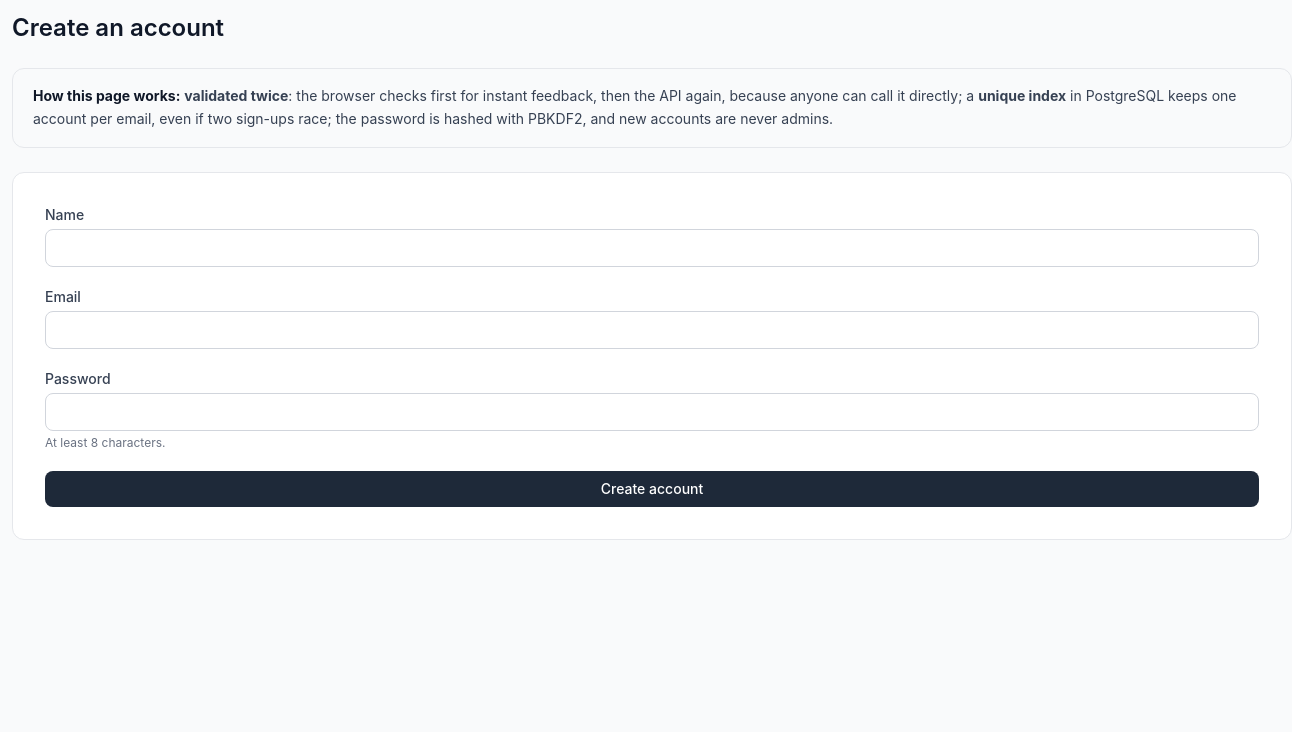
Test: RegisterPage › shows errors without a field in an alert
The width and height of the screenshot is (1292, 732).
Type "New User" into the field labelled "Name" at x=652, y=248, box x1=45 y1=228 x2=1259 y2=266
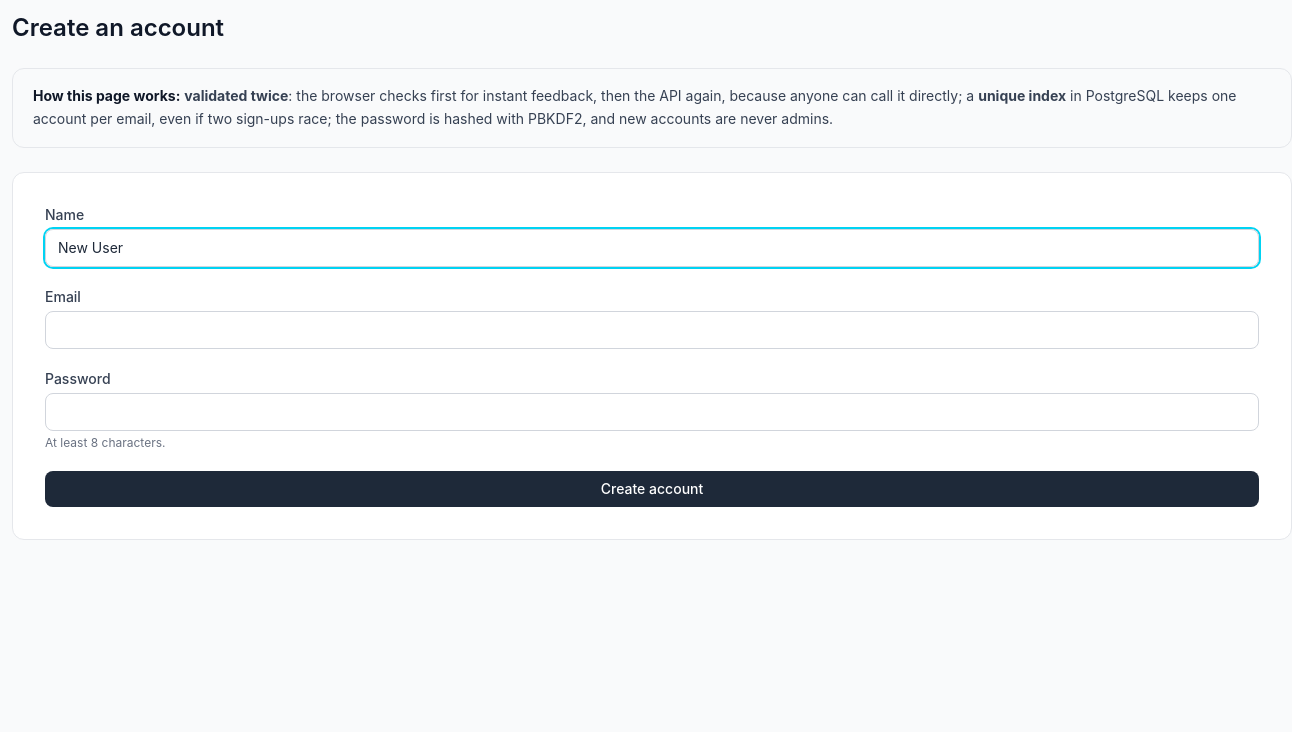
Type "new.user@example.com" into the field labelled "Email" at x=652, y=330, box x1=45 y1=310 x2=1259 y2=348
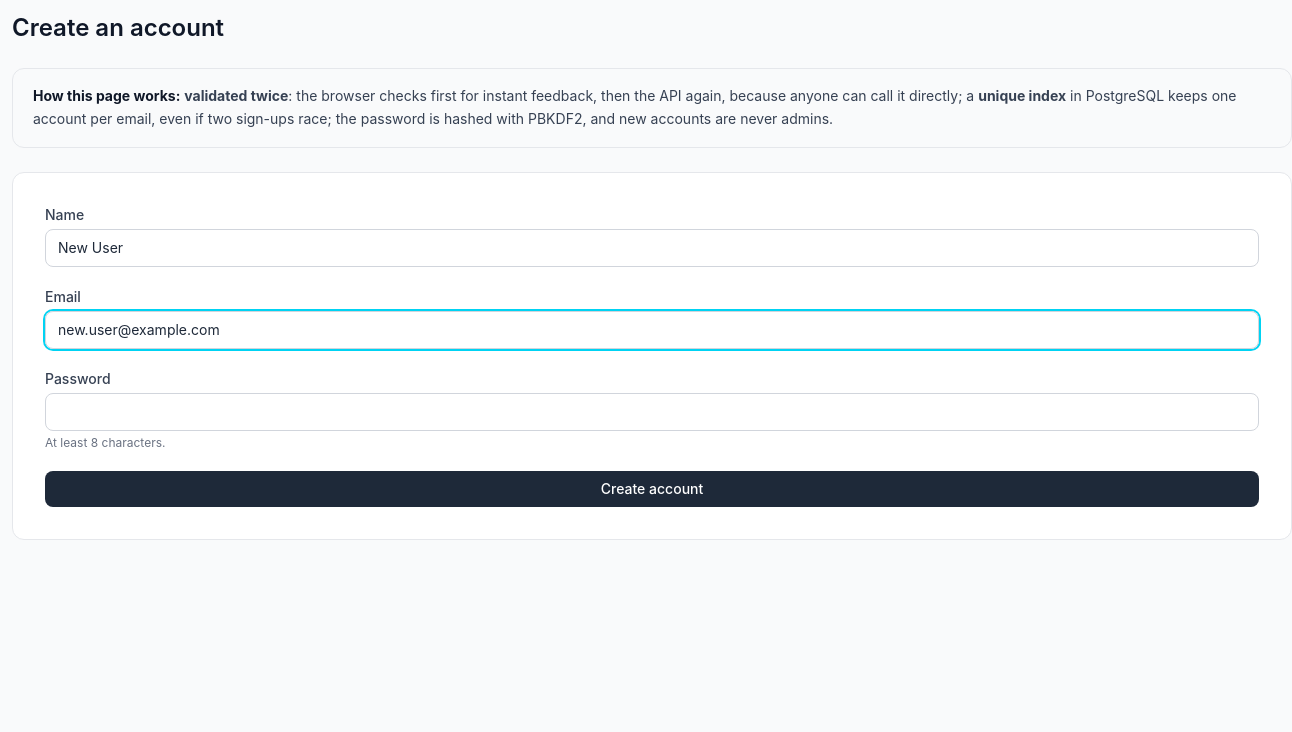
Type "secret-password" into the password field labelled "Password" at x=652, y=412, box x1=45 y1=392 x2=1259 y2=430
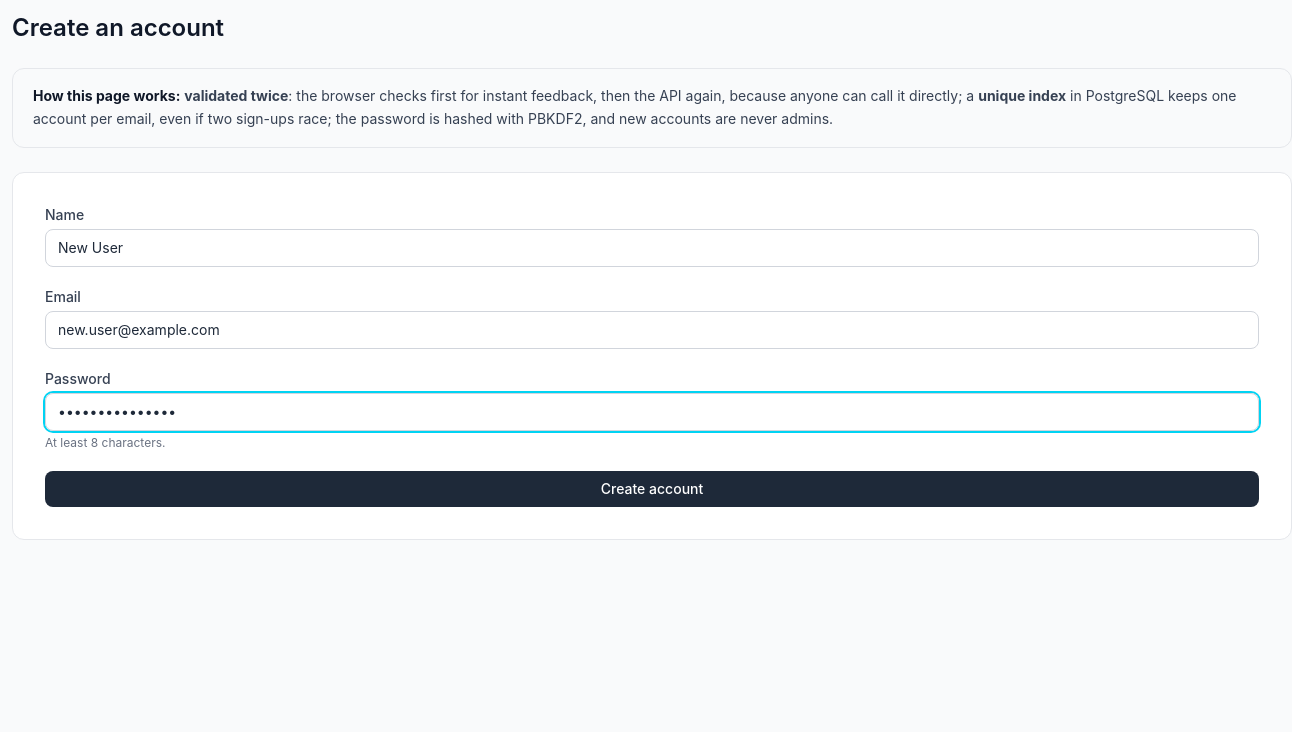
Click the button "Create account" at x=652, y=488, box x1=45 y1=470 x2=1259 y2=506
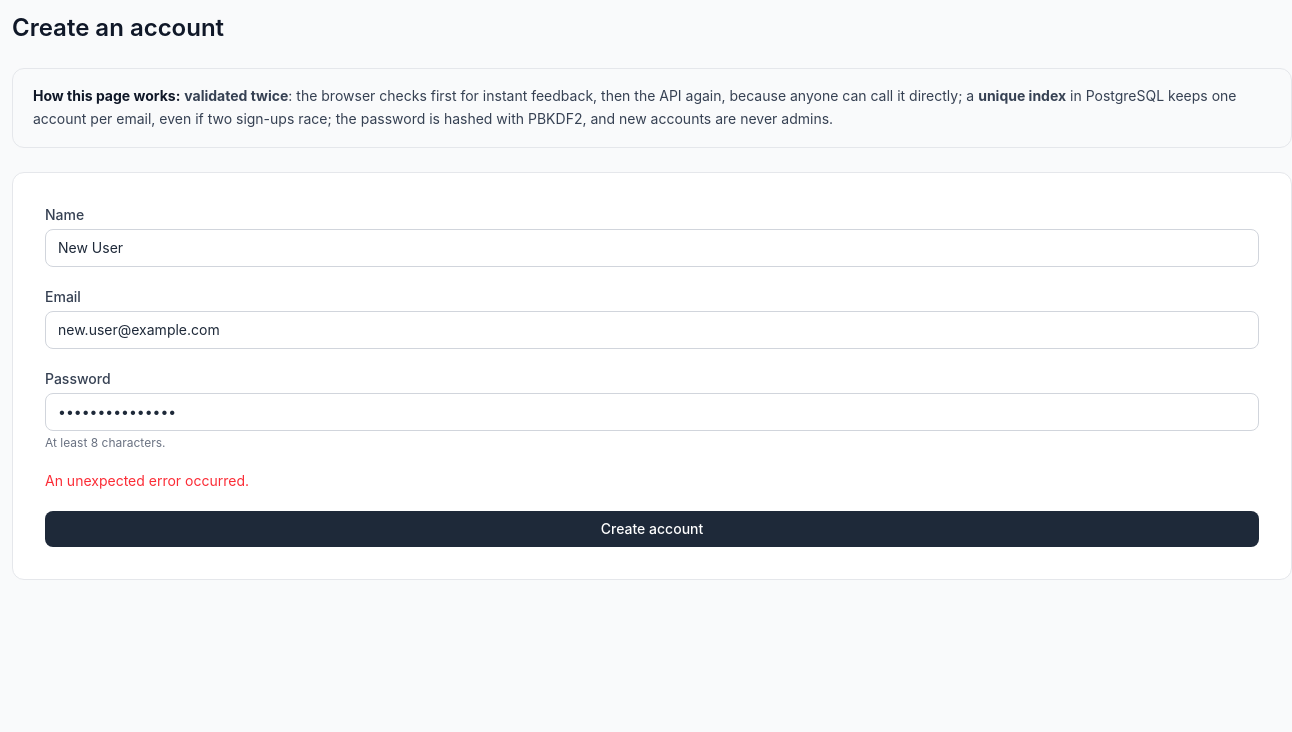
Expected: the message reads "An unexpected error occurred.", x1=45 y1=472 x2=249 y2=488
